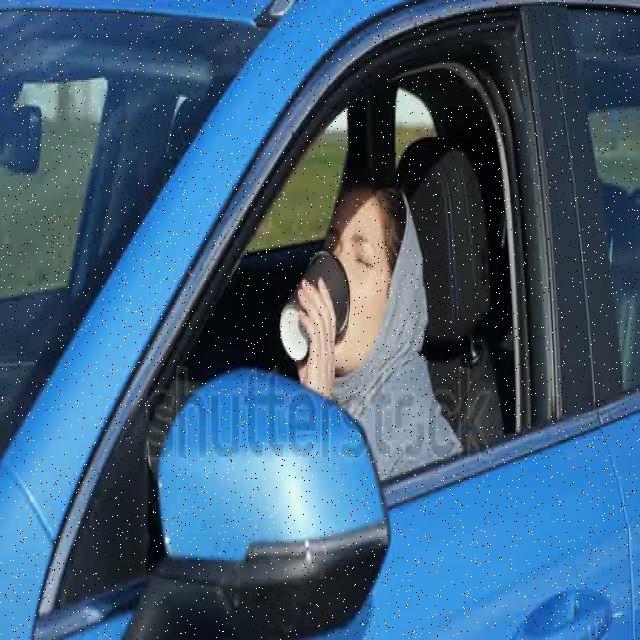human: (286, 157, 473, 497)
trash: (279, 254, 353, 370)
